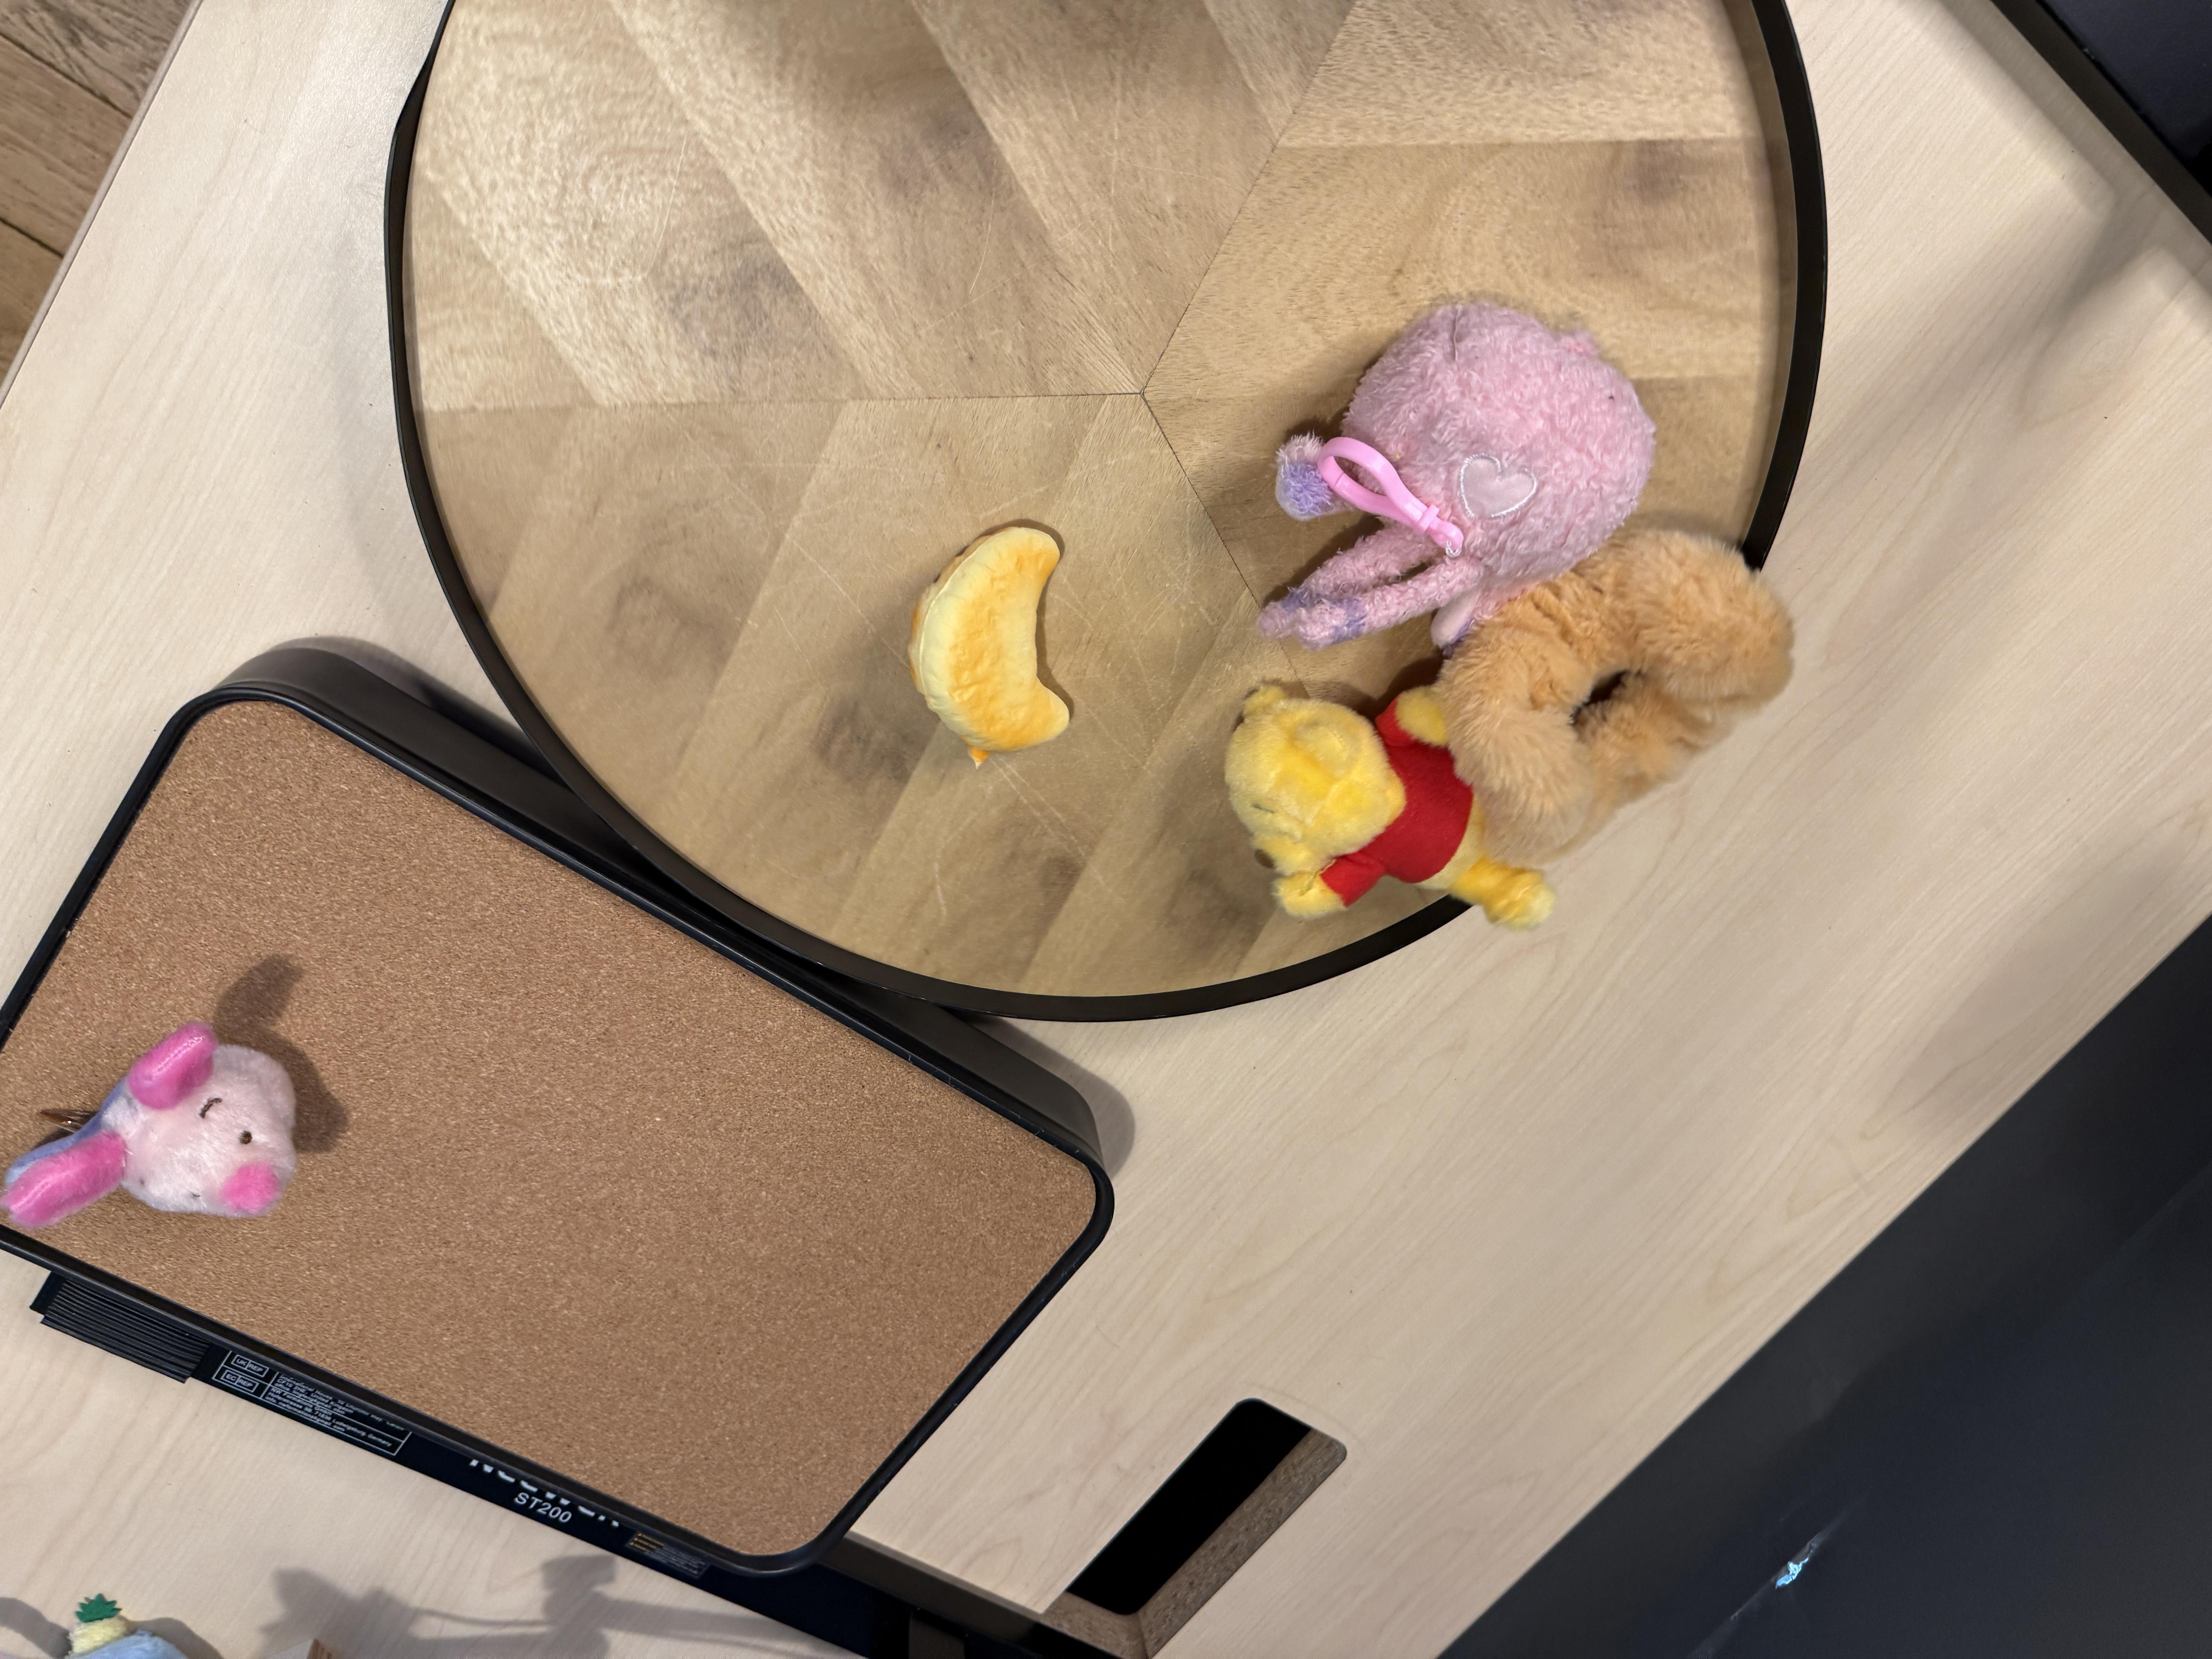bread: (906, 519, 1078, 756)
doll: (1224, 523, 1794, 929), (1259, 295, 1656, 641), (0, 1025, 301, 1229)
